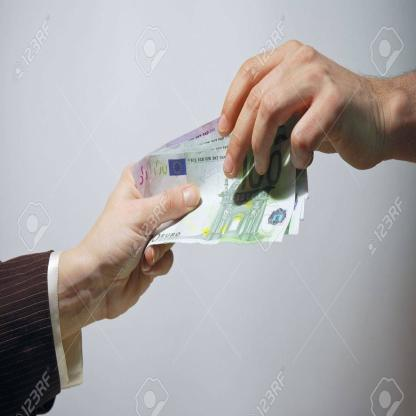billete: (128, 108, 310, 258)
